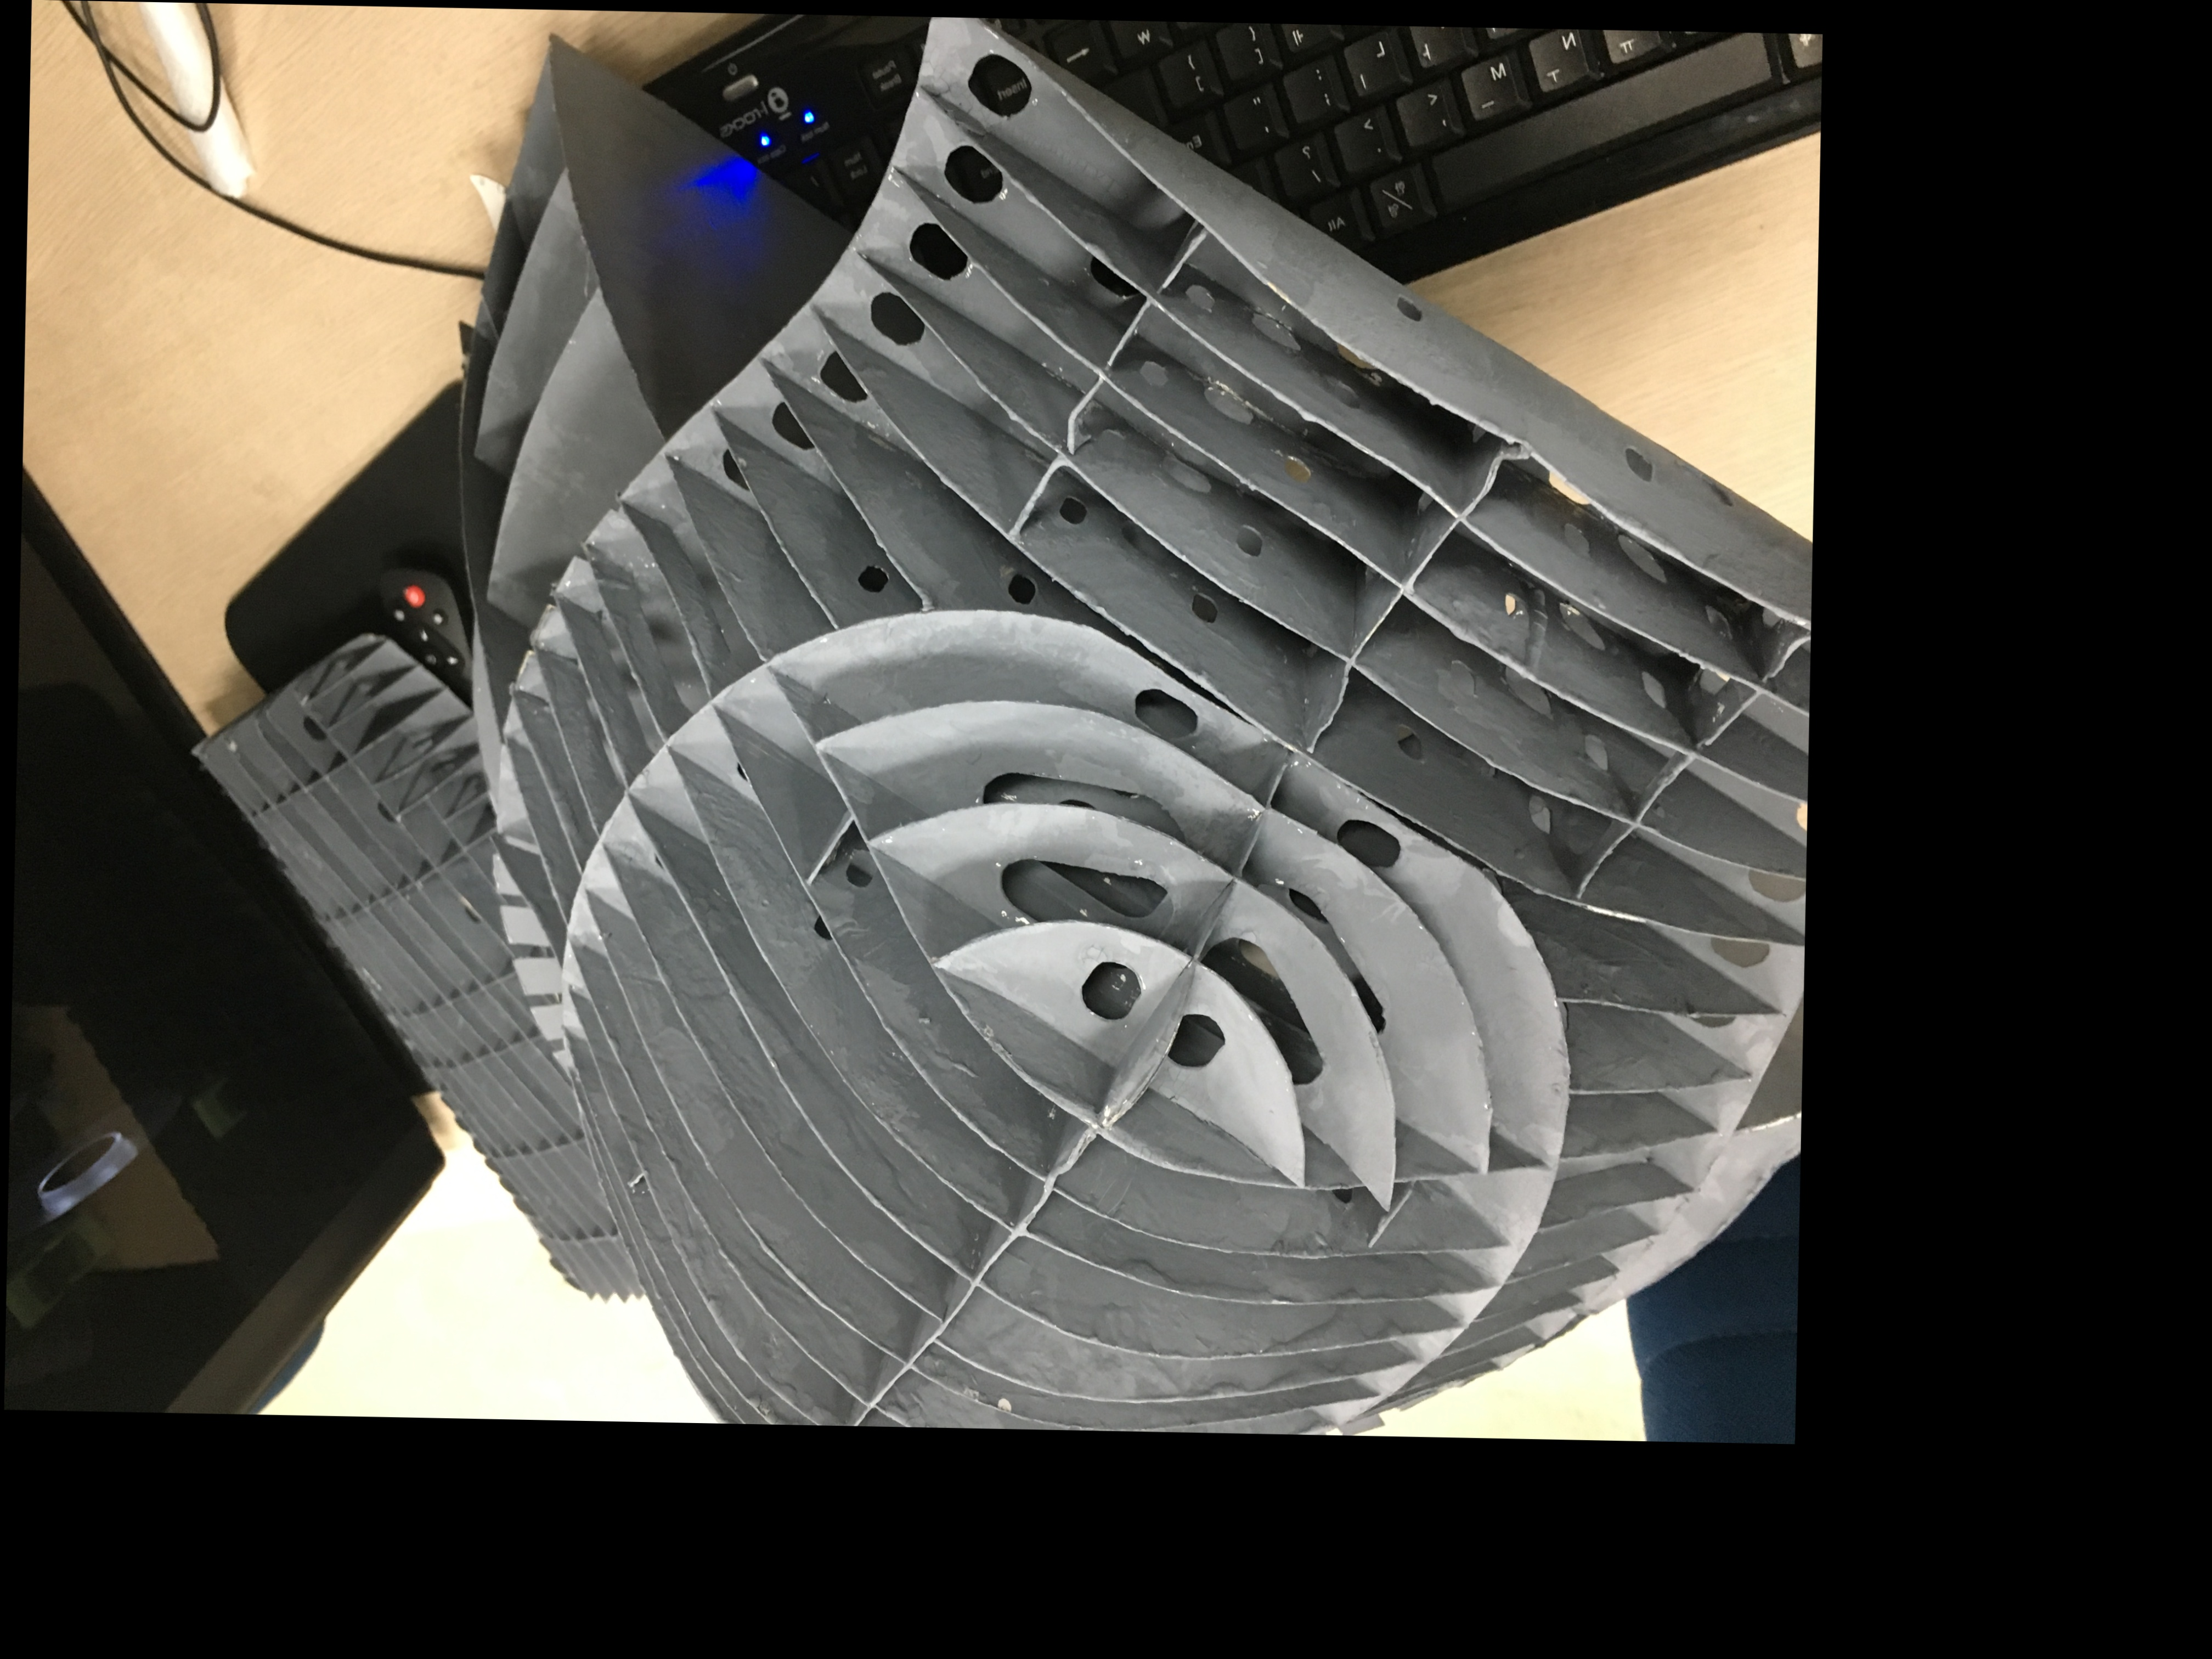D: (5, 9, 1404, 1417)
